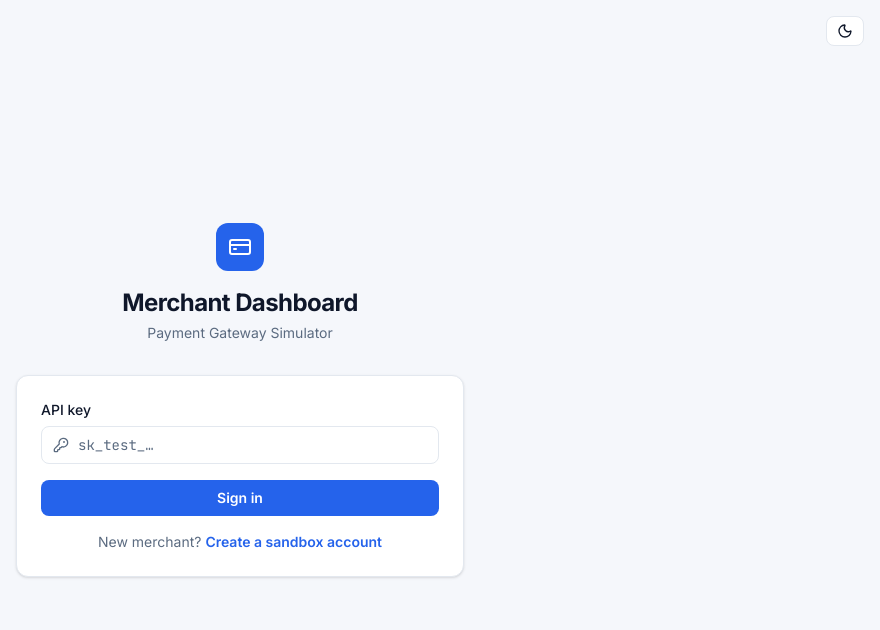
Scenario: login › shows the server error for an unknown key
This screenshot has width=880, height=630.
Type "sk_test_doesnotexist" into the password field labelled "API key" at [240, 445], box 41,426 -> 439,464
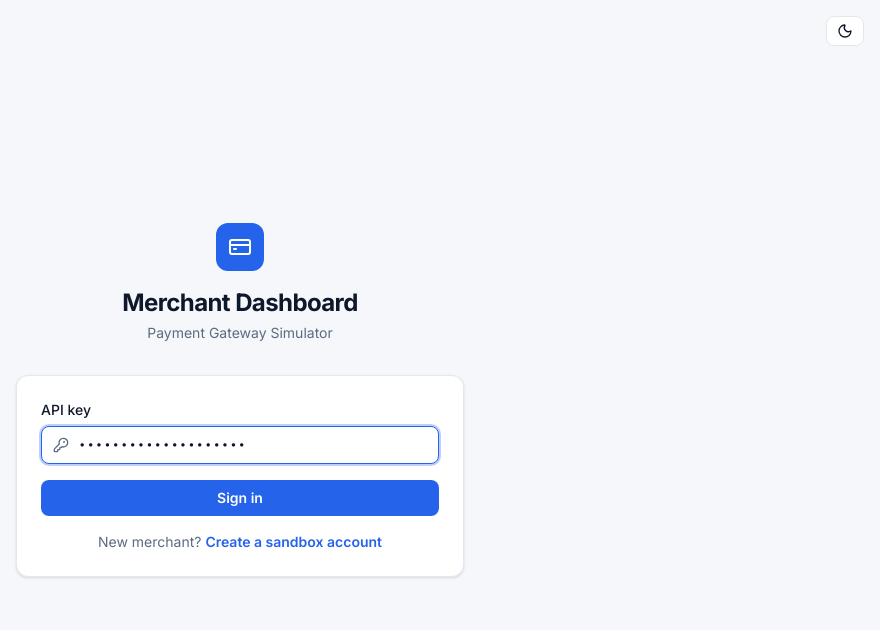
Click the button "Sign in" at [240, 498], box 41,480 -> 439,516
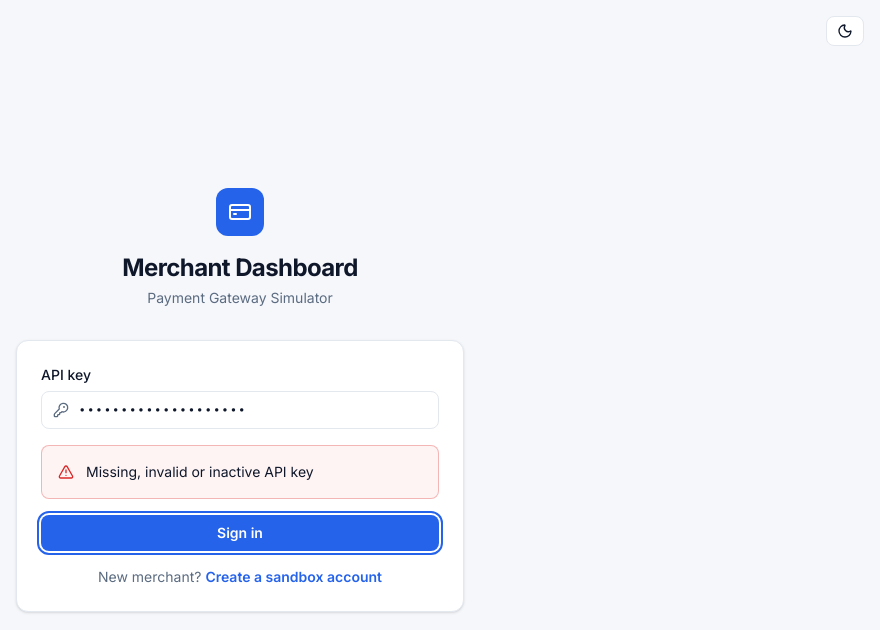
Expected: the message shows "invalid or inactive API key", 86,463 -> 314,480
